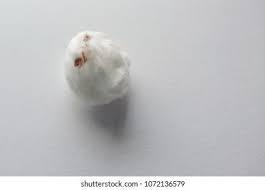cotton: (65, 31, 128, 105)
